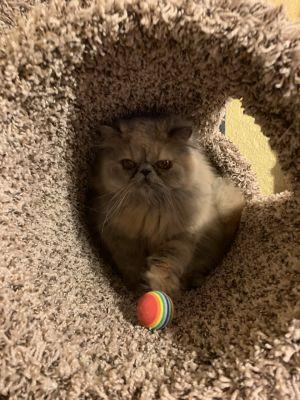persian: (85, 109, 208, 215)
